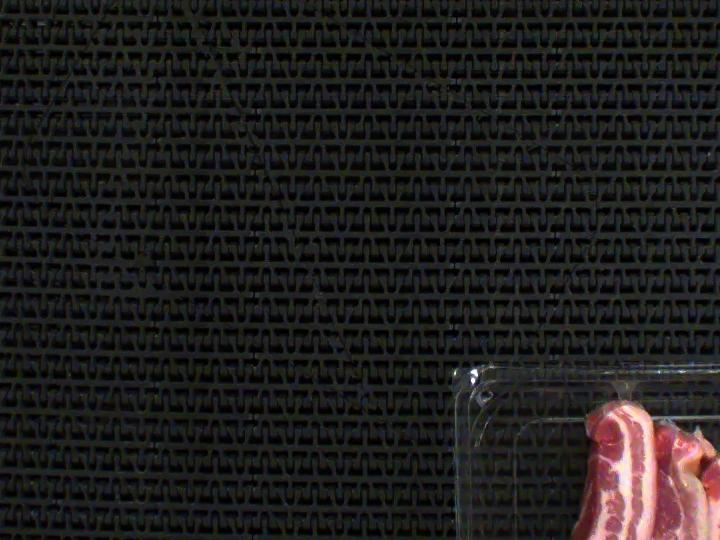packaging-error: (608, 374, 641, 404)
